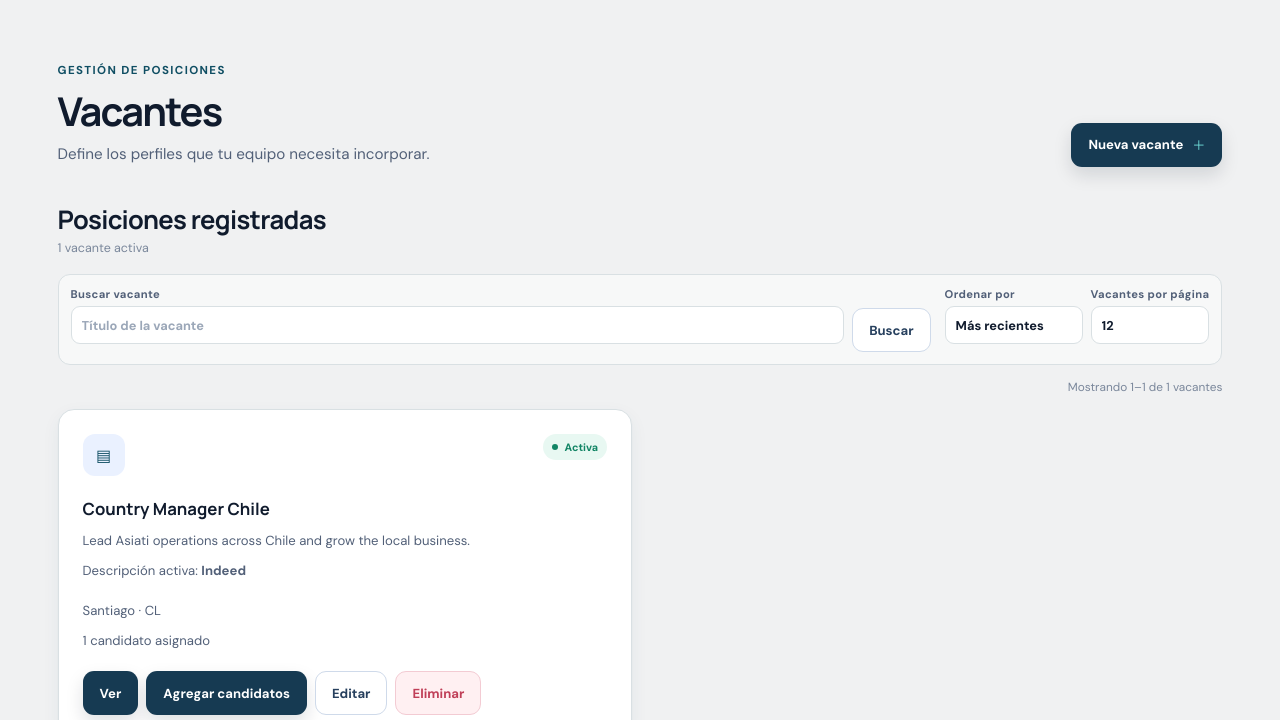
it: Jobs Indeed integration › shows Indeed controls when the integration is configured
expect the heading "Country Manager Chile" is shown: met, box [83, 498, 270, 520]
Step 1. Click the button "Ver" → coordinates (110, 693), box [83, 671, 138, 715]
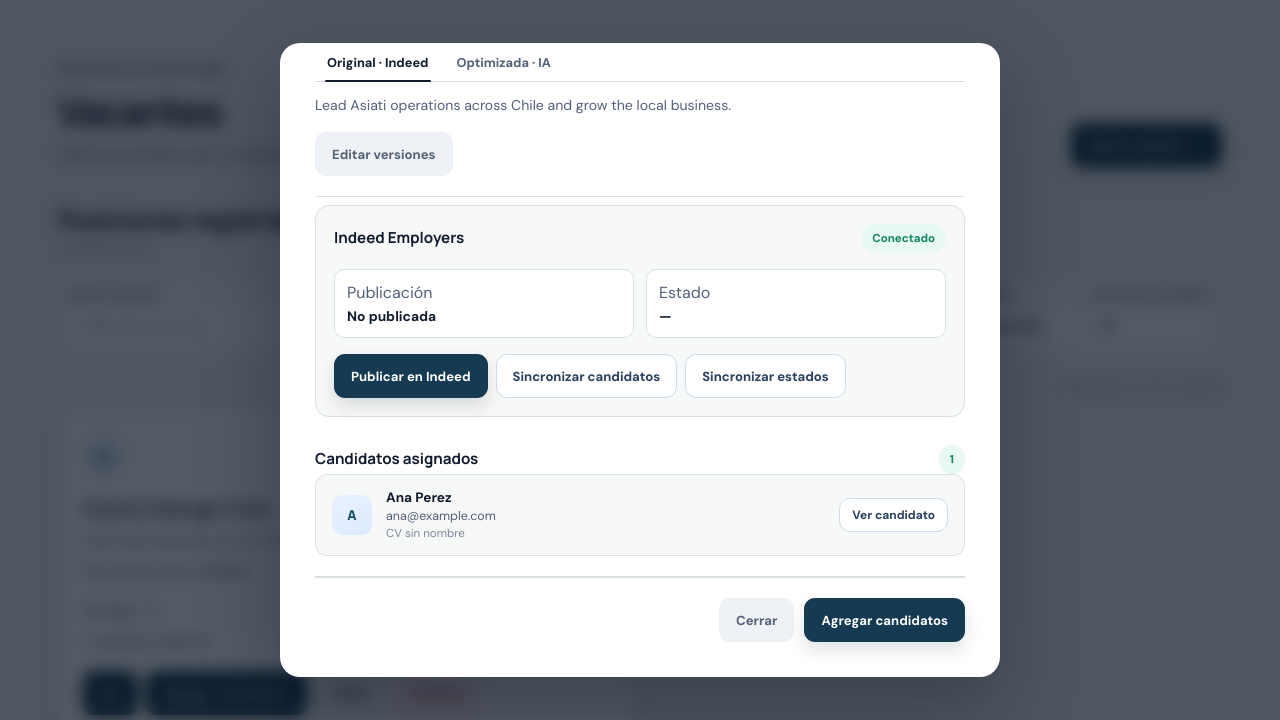
expect the heading "Indeed Employers" is shown: met, box [334, 228, 464, 249]
expect the text "Conectado" is shown: met, box [861, 224, 946, 253]
expect the button "Publicar en Indeed" is shown: met, box [334, 354, 488, 398]
